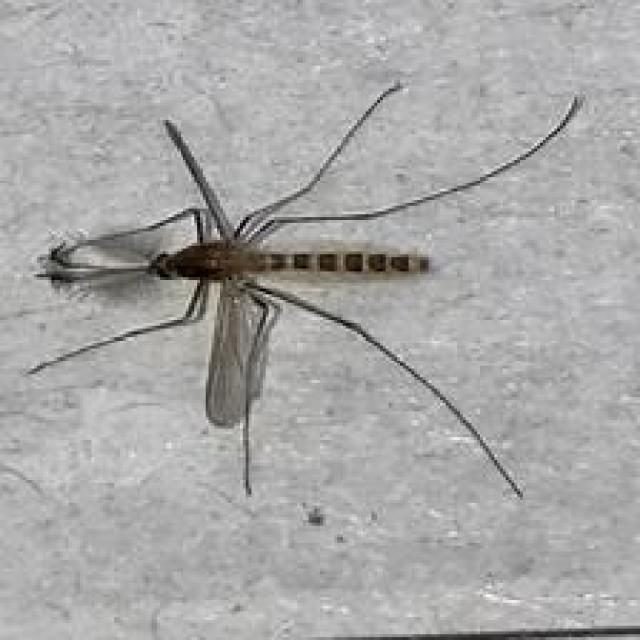Culex: (24, 79, 584, 502)
